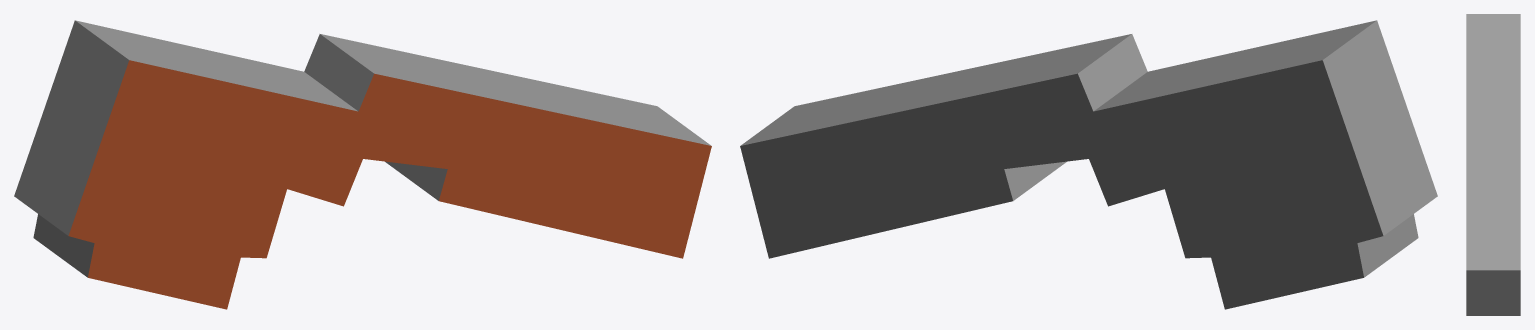
File: construction_2810_assumed_A_Casa_h6m.obj
The picture shows the model from 3 angles, left to right: view 1: azimuth 30°, elevation 25°; view 2: azimuth 150°, elevation 25°; view 3: azimuth 270°, elevation 25°; orthographic projection. The views are drawn at different scales.
Parts seen in each view (by area): view 1: construction_2810_assumed_A_Casa; view 2: construction_2810_assumed_A_Casa; view 3: construction_2810_assumed_A_Casa.
Part boxes in pixels (x1=…): construction_2810_assumed_A_Casa: x1=14, y1=20, x2=711, y2=309; construction_2810_assumed_A_Casa: x1=740, y1=20, x2=1437, y2=309; construction_2810_assumed_A_Casa: x1=1466, y1=14, x2=1520, y2=315.
Size of the model in its own units: 40.97 by 20.31 by 6.
